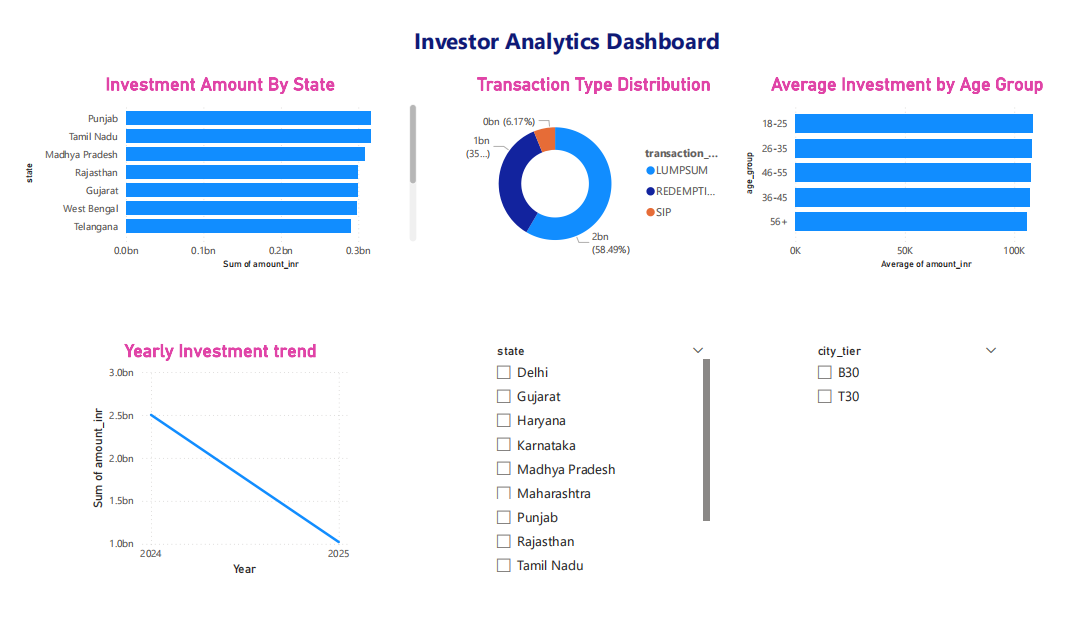

Layout of this report page (visuals, bound fields, positions):
{"tool":"powerbi","page":{"name":"Investor Analytics","canvas":[1280,720],"ordinal":2},"visuals":[{"type":"clusteredBarChart","title":"Investment Amount By State","fields":{"Category":["08_investor_transactions_clean.state"],"Y":["Sum(08_investor_transactions_clean.amount_inr)"]},"box":[16,80,480,240],"z":0},{"type":"donutChart","title":"Transaction Type Distribution","fields":{"Category":["08_investor_transactions_clean.transaction_type"],"Y":["Sum(08_investor_transactions_clean.amount_inr)"]},"box":[544,80,320,240],"z":1000},{"type":"clusteredBarChart","title":"Average Investment by Age Group","fields":{"Y":["Avg(08_investor_transactions_clean.amount_inr)"],"Category":["08_investor_transactions_clean.age_group"]},"box":[880,80,400,240],"z":2000},{"type":"lineChart","title":"Yearly Investment trend","fields":{"Category":["08_investor_transactions_clean.transaction_date.Variation.Date Hierarchy.Year","08_investor_transactions_clean.transaction_date.Variation.Date Hierarchy.Quarter","08_investor_transactions_clean.transaction_date.Variation.Date Hierarchy.Month","08_investor_transactions_clean.transaction_date.Variation.Date Hierarchy.Day"],"Y":["Sum(08_investor_transactions_clean.amount_inr)"]},"box":[96,400,320,288],"z":3000},{"type":"slicer","fields":{"Values":["08_investor_transactions_clean.state"]},"box":[576,400,272,288],"z":4000},{"type":"slicer","fields":{"Values":["08_investor_transactions_clean.city_tier"]},"box":[960,400,240,288],"z":5000},{"type":"textbox","box":[400,16,544,64],"z":6000}]}

Visuals, with their boxes on the page's 1280x720 design canvas (x1, y1, x2, y2). These are canvas units, not pixel positions in the 1073x624 screenshot, which may show the page scaled, cropped or inside an application window:
"Investment Amount By State" clusteredBarChart: x1=16 y1=80 x2=496 y2=320
"Transaction Type Distribution" donutChart: x1=544 y1=80 x2=864 y2=320
"Average Investment by Age Group" clusteredBarChart: x1=880 y1=80 x2=1280 y2=320
"Yearly Investment trend" lineChart: x1=96 y1=400 x2=416 y2=688
slicer - 08_investor_transactions_clean.state: x1=576 y1=400 x2=848 y2=688
slicer - 08_investor_transactions_clean.city_tier: x1=960 y1=400 x2=1200 y2=688
textbox: x1=400 y1=16 x2=944 y2=80
